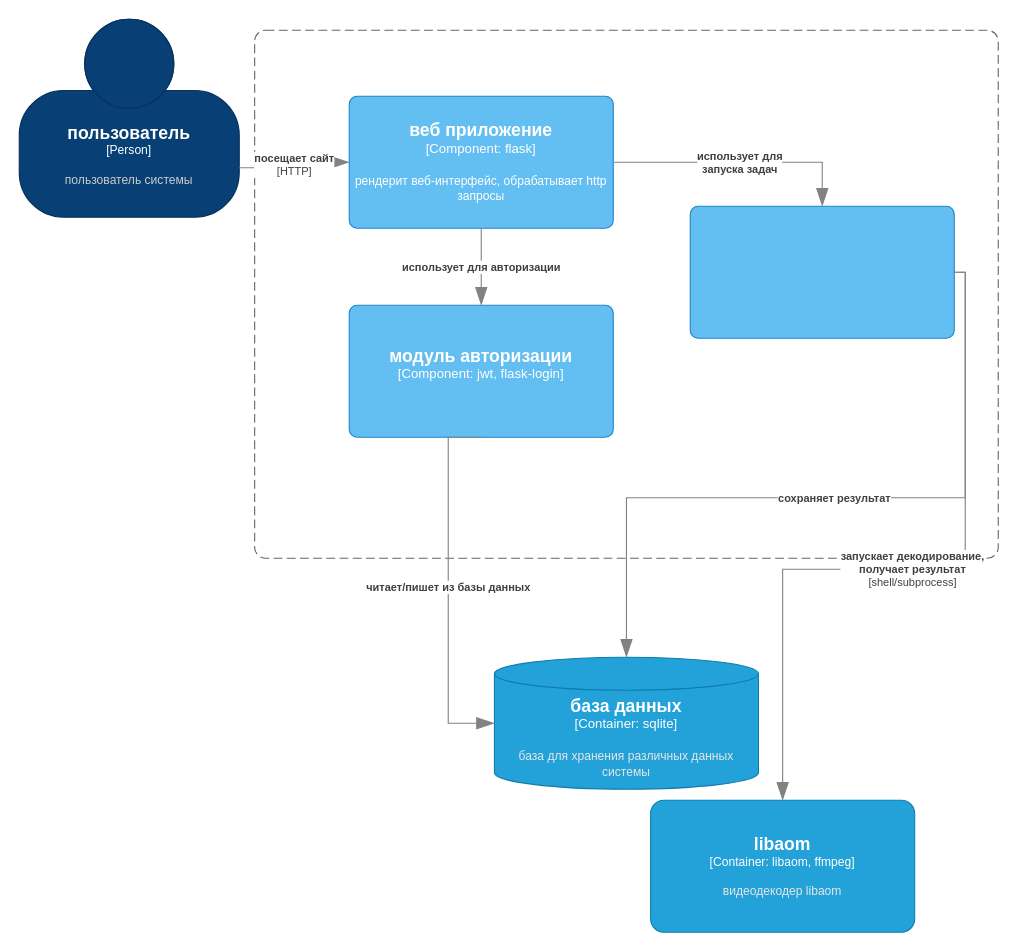
Image size: 1018x952. Some labels were removed from this diagram. Each missing label, with the box of its shape:
flask приложение [Container]: (254, 29, 998, 558)
модуль задач [Component: threading, multiprocessing] модуль запуска задач: (689, 205, 954, 338)
